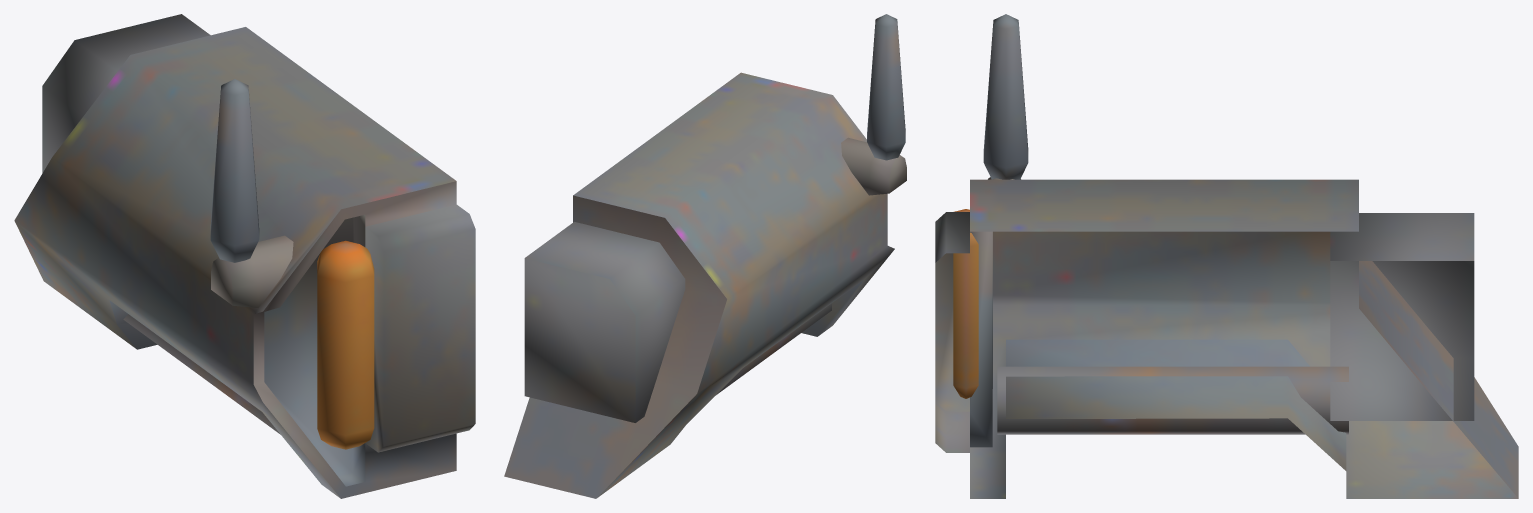
Rendered from acc2.obj.
3 views of the same model, side by side, from view 1: azimuth 30°, elevation 25°; view 2: azimuth 150°, elevation 25°; view 3: azimuth 270°, elevation 25° (orthographic). The views are drawn at different scales.
Parts seen in each view (by area): view 1: acc2; view 2: acc2; view 3: acc2.
Part boxes in pixels (<box>): acc2: <box>14,14,475,498</box>; acc2: <box>504,14,906,498</box>; acc2: <box>935,14,1518,498</box>.
Size of the model in its own units: 5.31 by 9.55 by 12.83.
